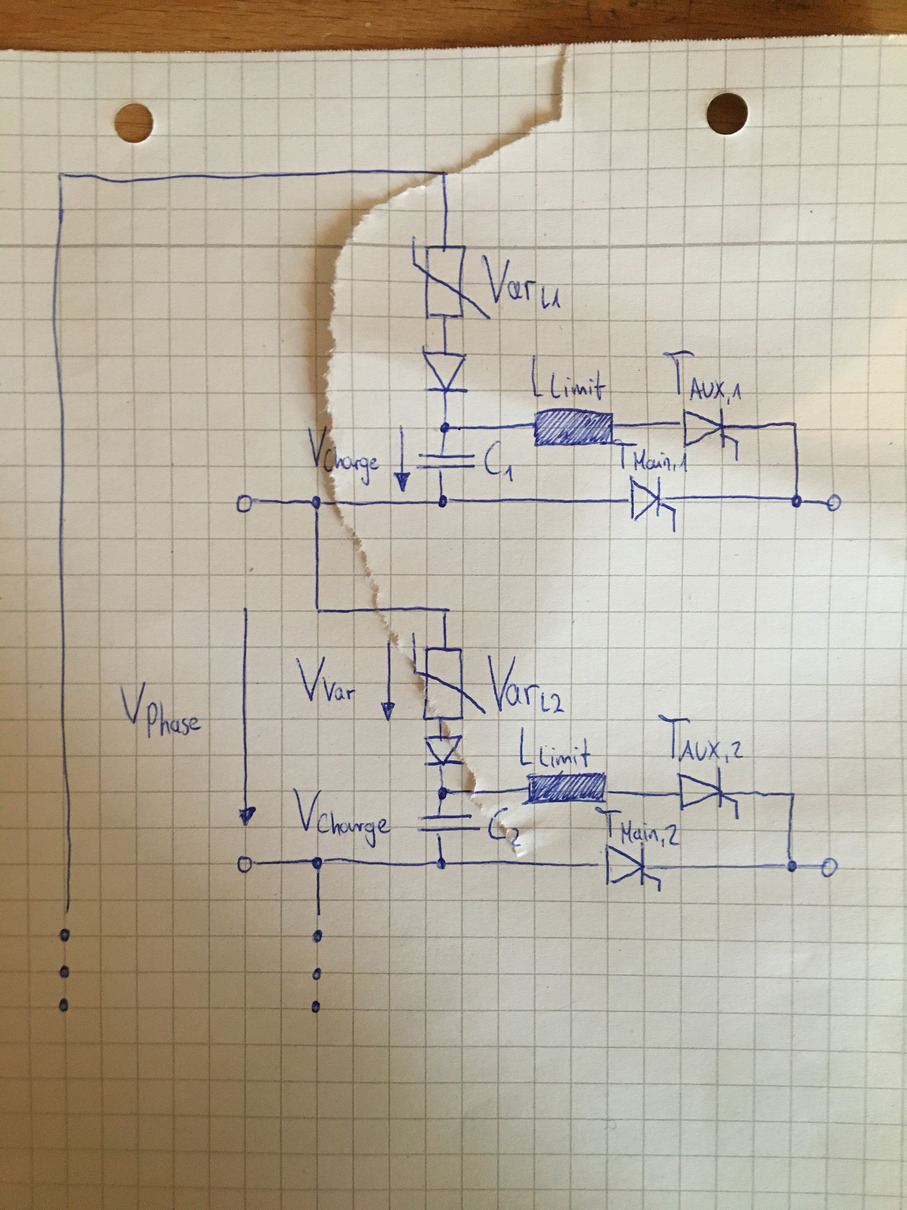capacitor.unpolarized: (415, 812, 483, 838), (413, 450, 478, 473)
diode: (418, 344, 471, 397), (422, 733, 469, 769)
inductor: (531, 406, 617, 450), (525, 771, 610, 806)
junction: (782, 855, 801, 876), (434, 784, 456, 802), (309, 854, 329, 873), (435, 493, 455, 511), (309, 493, 326, 514), (432, 855, 450, 872), (789, 492, 806, 509), (436, 420, 453, 435), (439, 604, 454, 618), (53, 169, 69, 182), (436, 166, 451, 179), (313, 603, 325, 617), (788, 418, 802, 430), (786, 788, 800, 800)
terminal: (234, 491, 263, 517), (56, 908, 76, 944), (310, 911, 327, 946), (235, 854, 258, 876), (819, 856, 839, 879), (824, 492, 844, 513)
text: (290, 785, 393, 849), (117, 679, 204, 740), (485, 652, 569, 715), (305, 424, 382, 488), (661, 348, 745, 406), (655, 711, 745, 764), (481, 252, 563, 310), (527, 352, 608, 404), (593, 804, 681, 848), (517, 724, 596, 770), (293, 653, 357, 703), (611, 438, 690, 476), (485, 804, 524, 848), (482, 438, 518, 485)
thyristor: (676, 765, 741, 815), (597, 845, 664, 890), (677, 405, 741, 452), (625, 474, 679, 523)
varistor: (408, 629, 488, 725), (409, 232, 493, 323)
